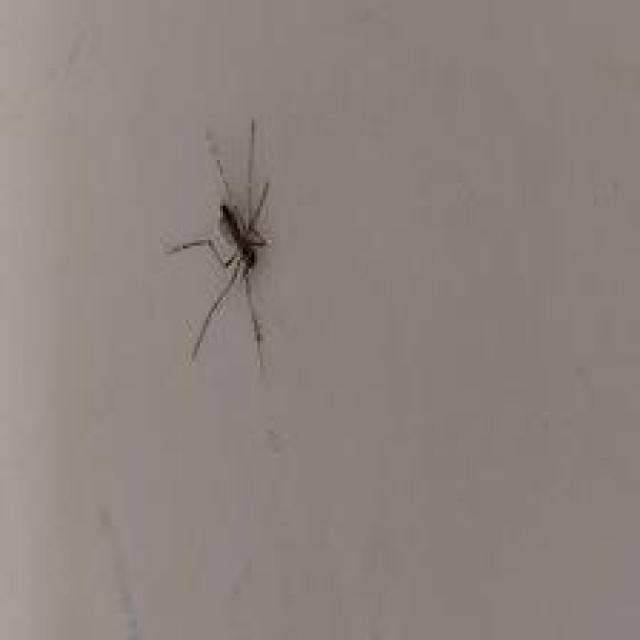Aedes albopictus: (164, 114, 279, 374)
